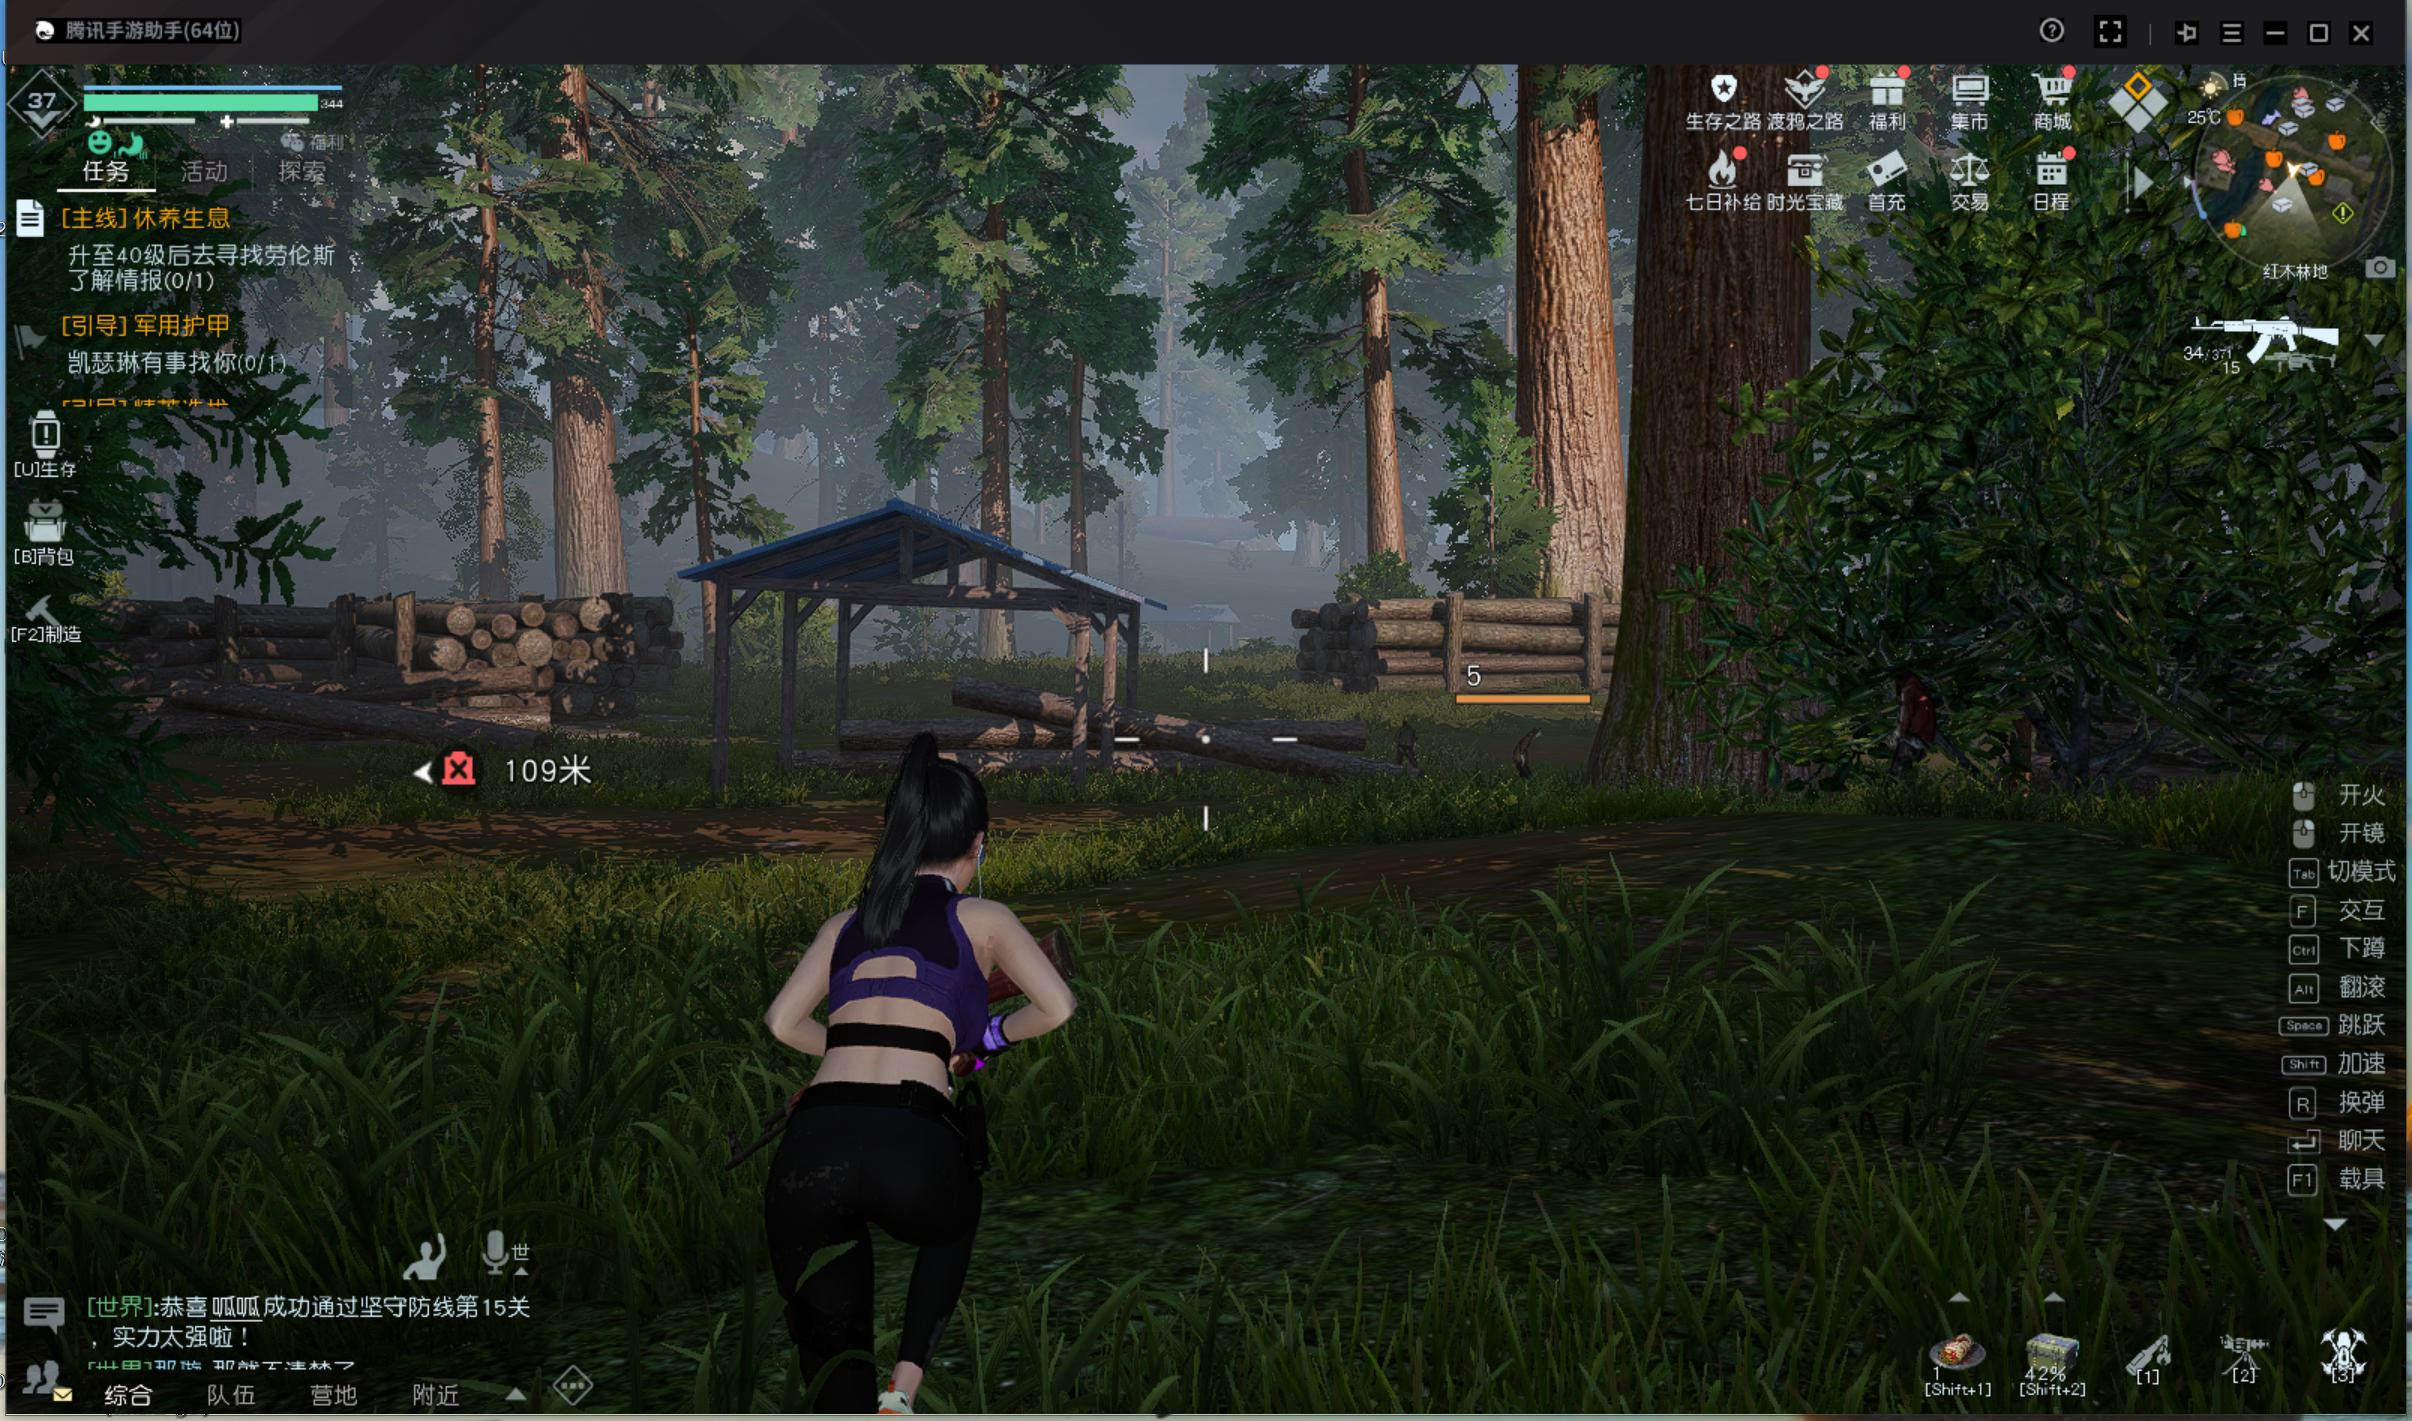tree: (1507, 157, 1636, 638), (540, 359, 634, 643), (1350, 313, 1416, 646), (969, 316, 1018, 685)
